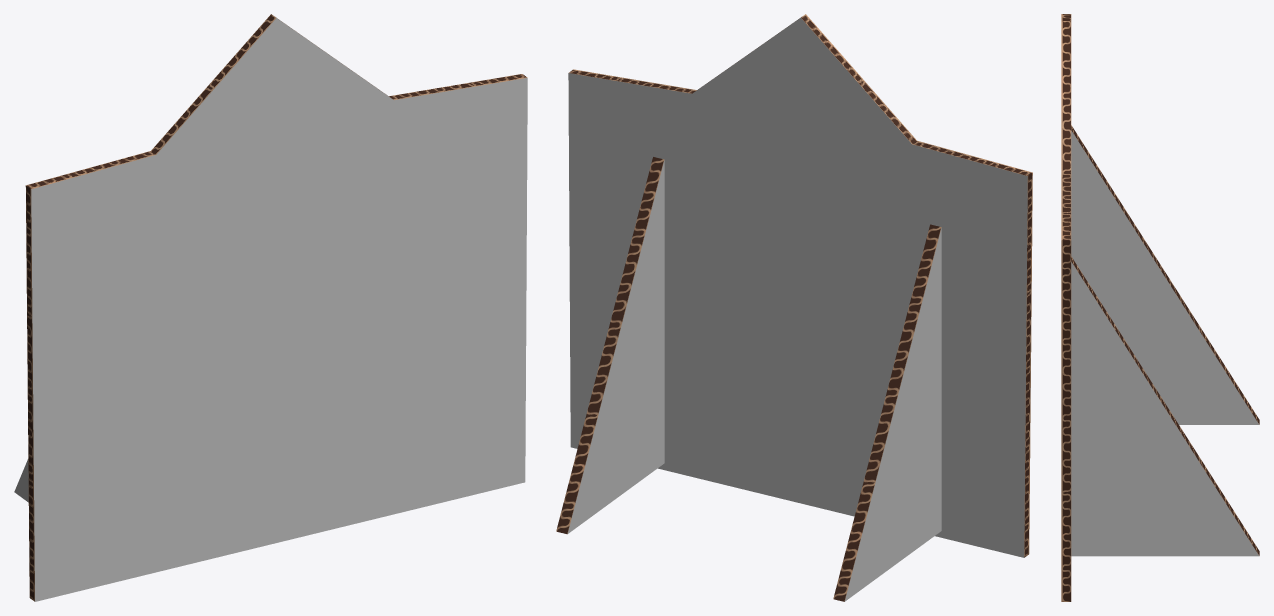
File: Store.fbx
3 views of the same model, side by side, from view 1: azimuth 30°, elevation 25°; view 2: azimuth 150°, elevation 25°; view 3: azimuth 270°, elevation 25° (orthographic). The views are drawn at different scales.
Visible parts, largest first — view 1: Store_LOD0; view 2: Store_LOD0; view 3: Store_LOD0.
Boxes of the visible parts, bbox=[...] form: Store_LOD0: bbox=[14, 14, 527, 601]; Store_LOD0: bbox=[556, 14, 1032, 601]; Store_LOD0: bbox=[1061, 14, 1259, 601].
Size of the model in its own units: 992 by 1002 by 381.
